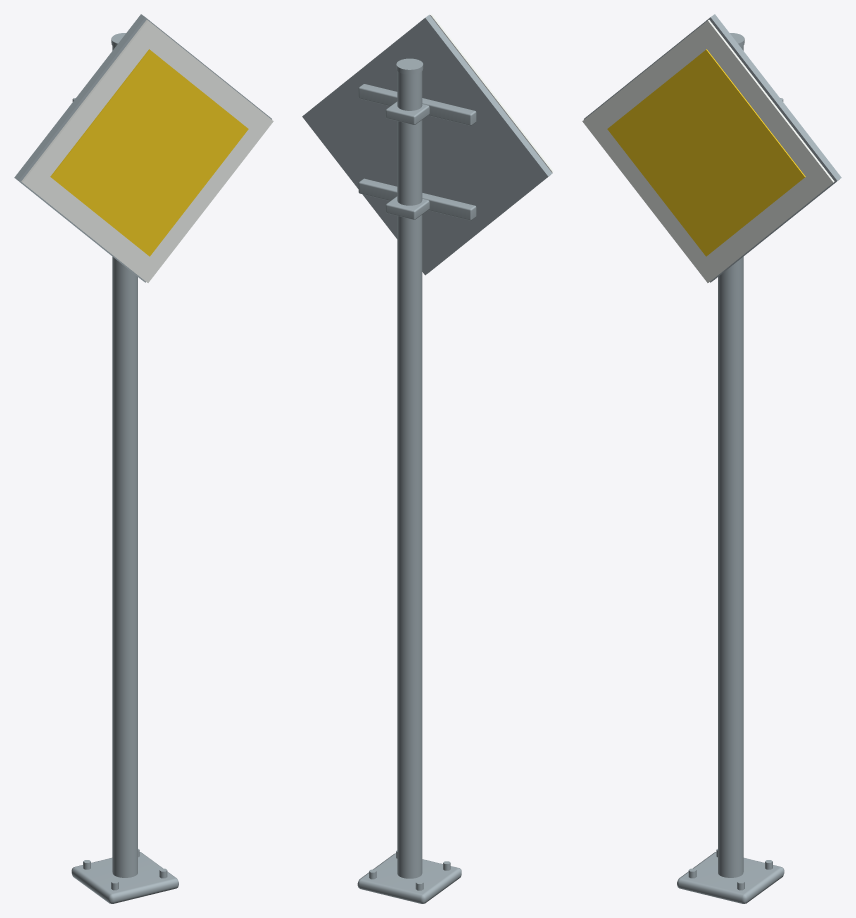
File: DS_Sign_Priority.glb
3 renders of one model, left to right at view 1: azimuth 30°, elevation 25°; view 2: azimuth 150°, elevation 25°; view 3: azimuth 330°, elevation 25°, orthographic. The views are drawn at different scales.
Parts seen in each view (by area): view 1: Face_Field.002, Post.002, Face_Border.002, BasePlate.002, Plate_Back.002; view 2: Plate_Back.002, Post.002, BasePlate.002, RearRail.005, RearRail.004, PostClamp.004, PostClamp.005, Face_Border.002; view 3: Face_Field.002, Post.002, Face_Border.002, BasePlate.002, Plate_Back.002.
Boxes of the visible parts, x1,y1,x2,y2 form: Face_Field.002: (50, 49, 248, 256); Post.002: (112, 46, 137, 877); Face_Border.002: (21, 20, 273, 282); BasePlate.002: (71, 852, 178, 903); Plate_Back.002: (14, 14, 271, 282); Plate_Back.002: (302, 14, 552, 275); Post.002: (397, 71, 422, 878); BasePlate.002: (357, 853, 461, 903); RearRail.005: (358, 84, 476, 125); RearRail.004: (358, 178, 476, 220); PostClamp.004: (385, 196, 429, 219); PostClamp.005: (385, 101, 429, 124); Face_Border.002: (430, 14, 553, 172); Face_Field.002: (607, 49, 805, 256); Post.002: (718, 46, 743, 877); Face_Border.002: (582, 20, 834, 282); BasePlate.002: (677, 852, 784, 903); Plate_Back.002: (584, 14, 841, 282).
Bounding box in the file's own units: 0.87 × 2.88 × 0.266.
